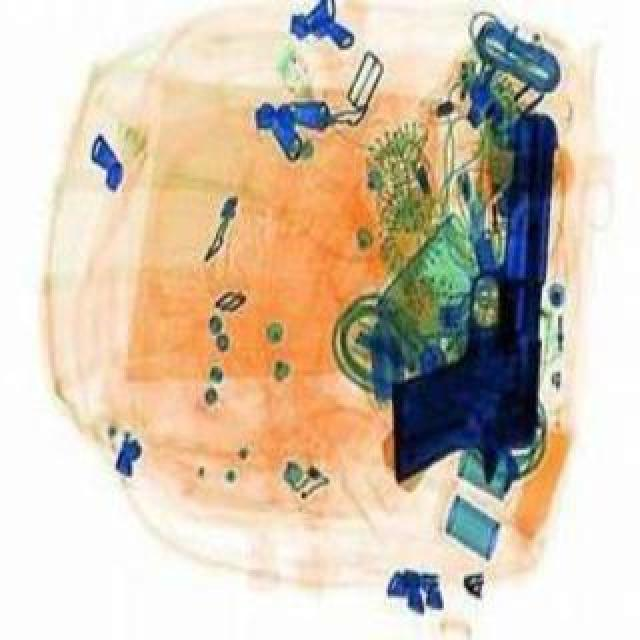gun: (388, 104, 556, 484)
